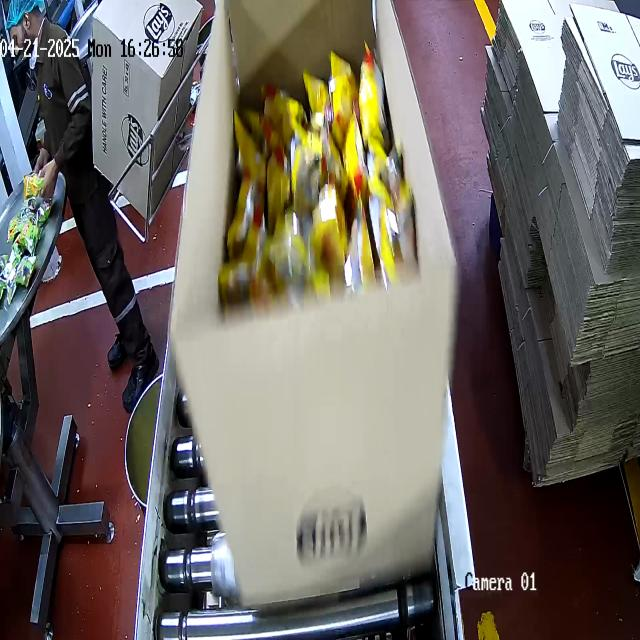SALTED: (214, 60, 411, 291)
